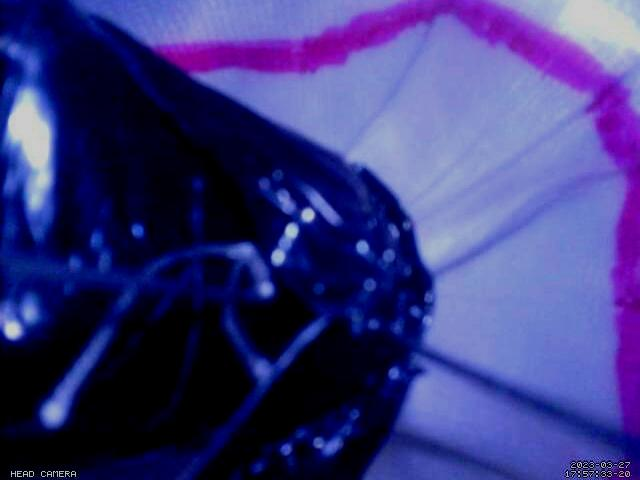red-circle: (149, 0, 640, 480)
